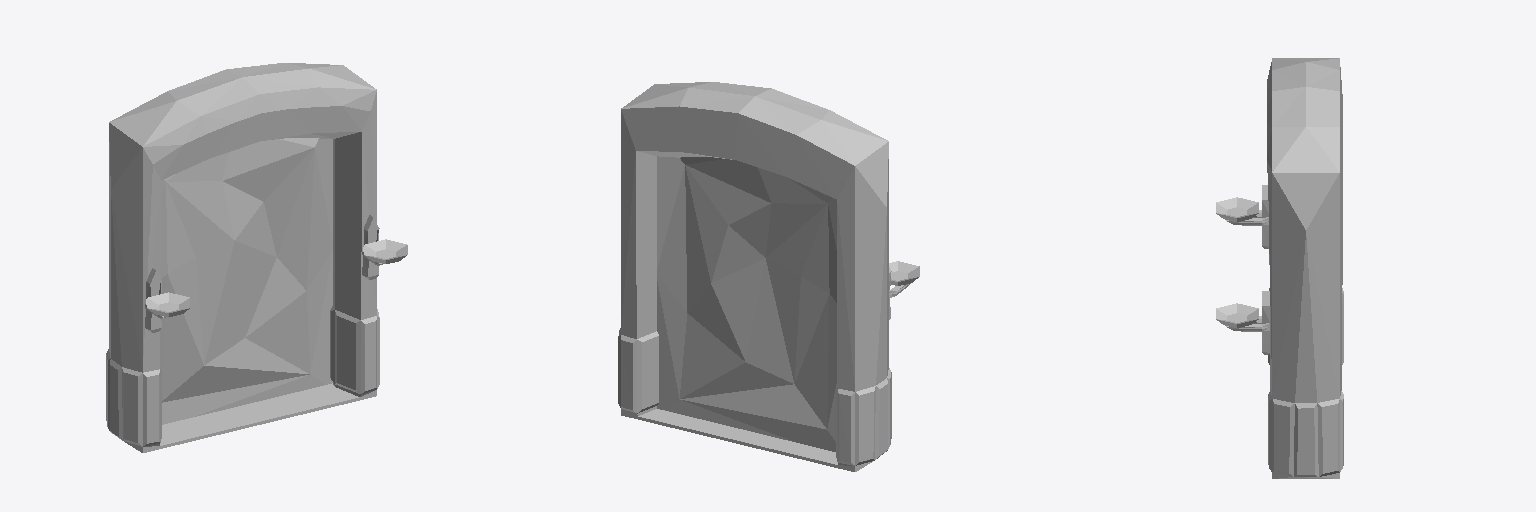
File: PuzzleRoomGate.obj
3 views of the same model, side by side, from view 1: azimuth 30°, elevation 25°; view 2: azimuth 150°, elevation 25°; view 3: azimuth 270°, elevation 25° (orthographic).
Size of the model in its own units: 7.3 by 8.94 by 3.08.